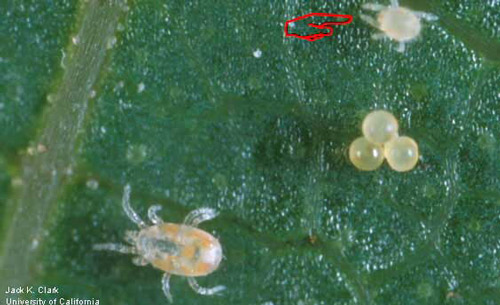Mites: (96, 181, 243, 303)
